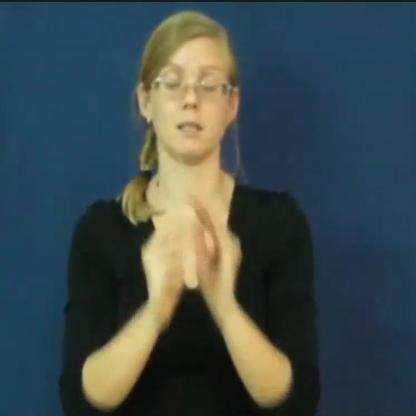Fix: (140, 196, 259, 318)
